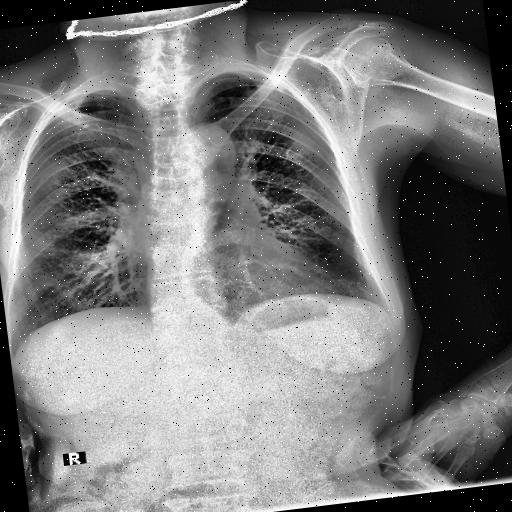0- Aortic enlargement: (178, 120, 240, 186), (174, 120, 236, 180), (182, 118, 240, 180)
3- Cardiomegaly: (144, 260, 350, 338), (143, 254, 358, 318)
